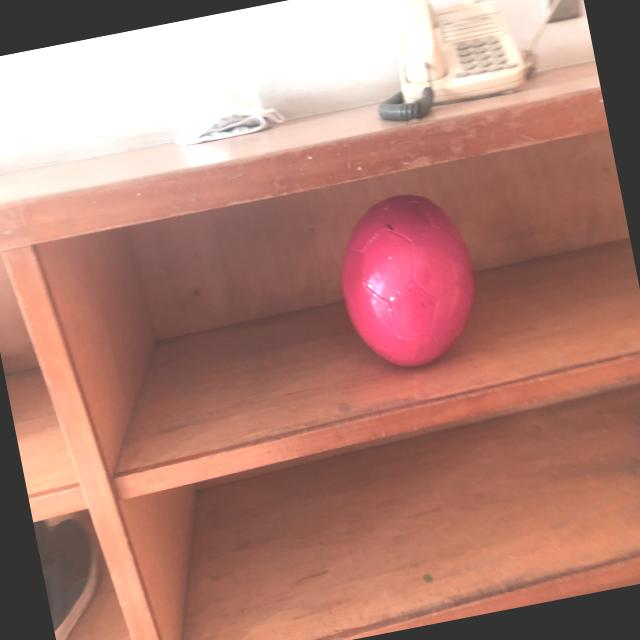red_ball: (328, 183, 492, 381)
